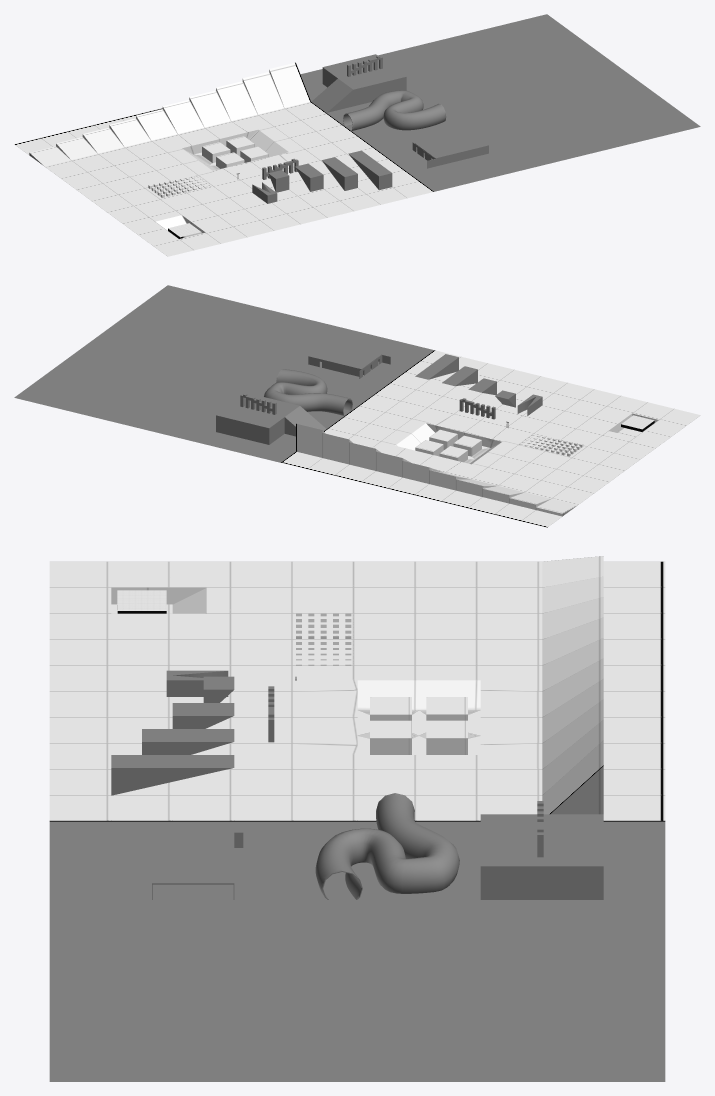
The model's file is WorldGeo.fbx.
The picture shows the model from 3 angles, top to bottom: view 1: azimuth 30°, elevation 25°; view 2: azimuth 150°, elevation 25°; view 3: azimuth 270°, elevation 25°; orthographic projection. The views are drawn at different scales.
Parts seen in each view (by area): view 1: groundmesh, GroundSection02, Tunnel, WallsAndDoors, CeilingWedge01, CeilingWedge02, CeilingWedge03; view 2: groundmesh, GroundSection02, Tunnel, WallsAndDoors, CeilingWedge01, CeilingWedge02; view 3: GroundSection02, groundmesh, Tunnel, WallsAndDoors, CeilingWedge01, CeilingWedge02, CeilingWedge03, transform40, bridgeplatform.
Boxes of the visible parts, bbox=[...] form: groundmesh: bbox=[14, 62, 433, 256]; GroundSection02: bbox=[300, 14, 700, 191]; Tunnel: bbox=[343, 90, 446, 130]; WallsAndDoors: bbox=[412, 130, 488, 168]; CeilingWedge01: bbox=[348, 150, 392, 190]; CeilingWedge02: bbox=[322, 157, 357, 190]; CeilingWedge03: bbox=[295, 163, 323, 191]; groundmesh: bbox=[281, 350, 700, 527]; GroundSection02: bbox=[14, 285, 433, 462]; Tunnel: bbox=[264, 369, 352, 415]; WallsAndDoors: bbox=[308, 341, 390, 378]; CeilingWedge01: bbox=[415, 354, 458, 379]; CeilingWedge02: bbox=[442, 366, 477, 386]; GroundSection02: bbox=[49, 814, 665, 1081]; groundmesh: bbox=[49, 556, 665, 821]; Tunnel: bbox=[315, 793, 459, 899]; WallsAndDoors: bbox=[152, 824, 243, 899]; CeilingWedge01: bbox=[111, 755, 234, 795]; CeilingWedge02: bbox=[142, 729, 234, 754]; CeilingWedge03: bbox=[172, 703, 234, 728]; transform40: bbox=[166, 670, 228, 696]; bridgeplatform: bbox=[117, 590, 166, 613].
Size of the model in its own units: 200 by 13.75 by 100.
